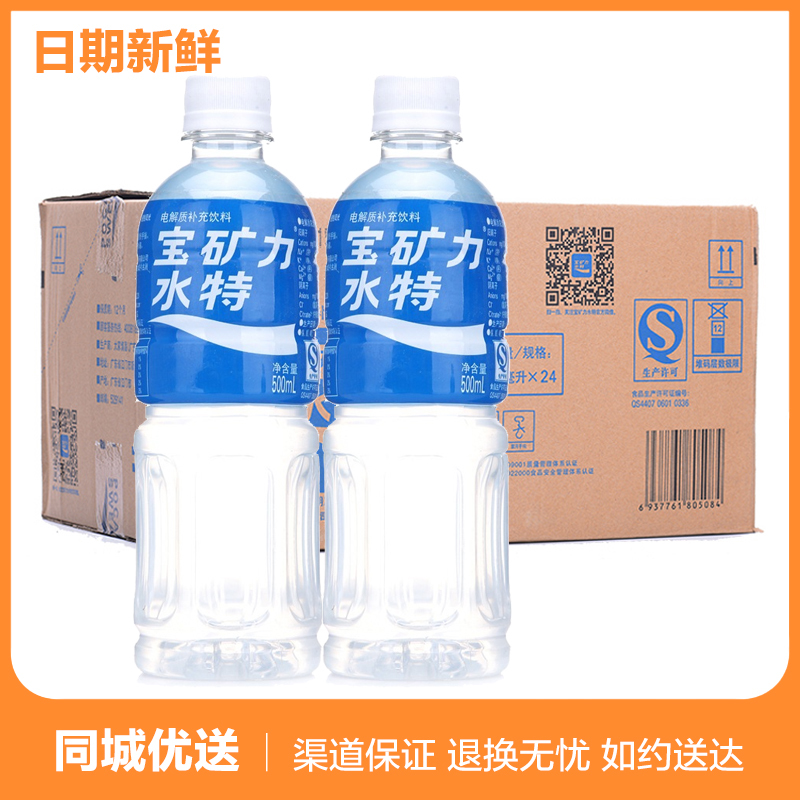POCARI SWEAT: (125, 68, 317, 672), (320, 63, 512, 667)
